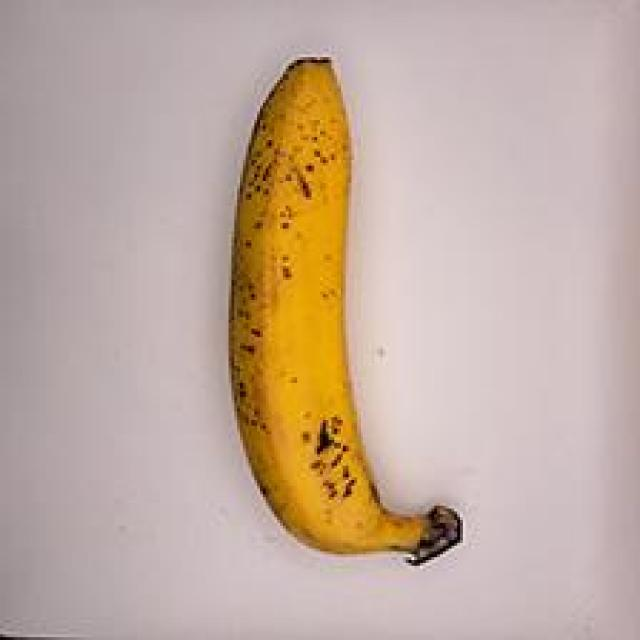Overripe: (201, 31, 491, 576)
